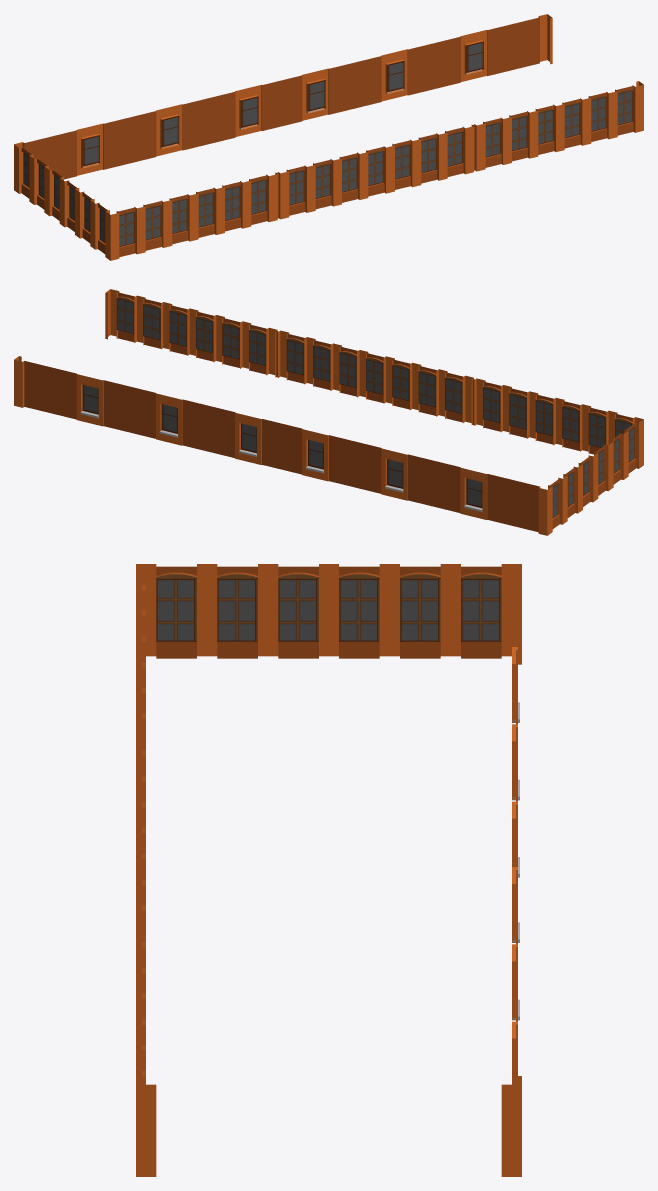
File: BuildingSmall1_2.fbx
3 views of the same model, one above another, from view 1: azimuth 30°, elevation 25°; view 2: azimuth 150°, elevation 25°; view 3: azimuth 270°, elevation 25° (orthographic). The views are drawn at different scales.
Parts seen in each view (by area): view 1: BuildingSmall1_2; view 2: BuildingSmall1_2; view 3: BuildingSmall1_2.
Part boxes in pixels (bbox=[...]): BuildingSmall1_2: bbox=[14, 14, 643, 260]; BuildingSmall1_2: bbox=[14, 289, 643, 535]; BuildingSmall1_2: bbox=[136, 564, 521, 1176].
Bounding box in the file's own units: 6060 × 500 × 1900.
